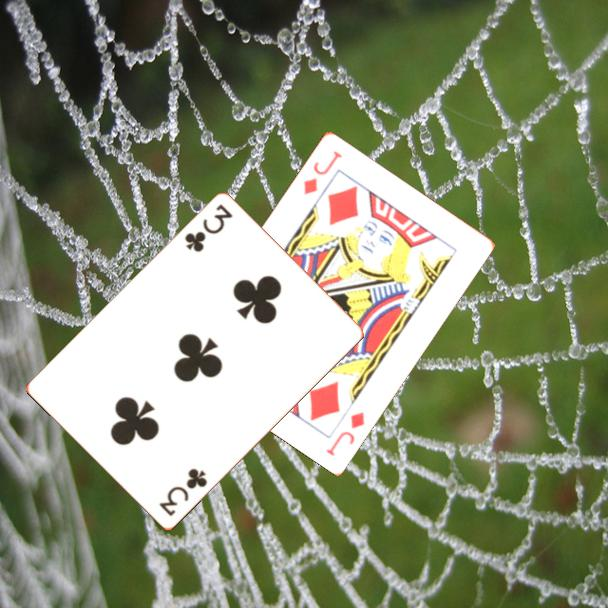c03: (155, 465, 210, 520), (181, 201, 236, 256)
d11: (322, 408, 368, 459), (300, 147, 345, 197)
